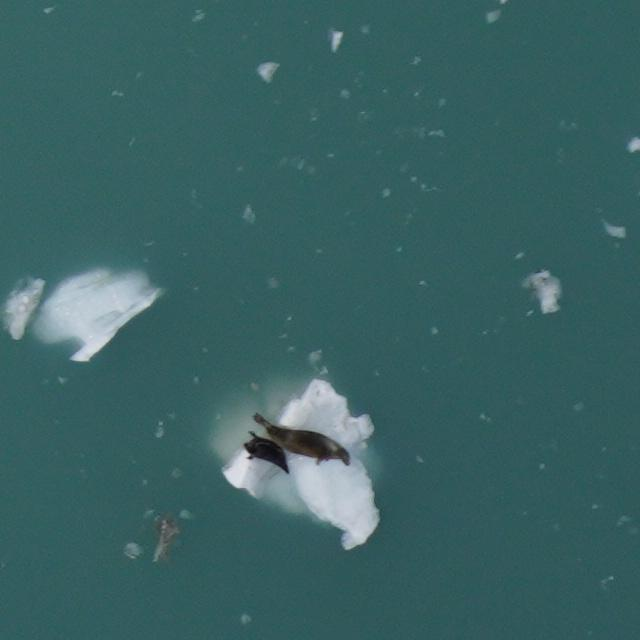seal: (244, 409, 358, 476), (234, 425, 301, 483)
